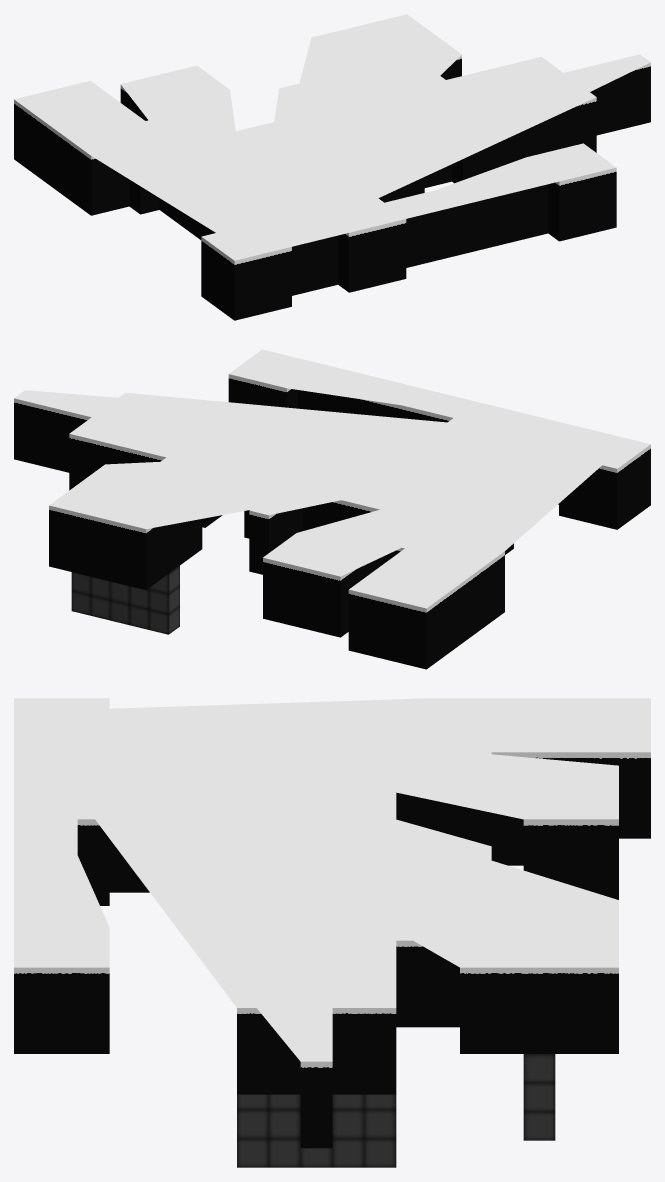
File: Tutorial.obj
3 renders of one model, top to bottom at view 1: azimuth 30°, elevation 25°; view 2: azimuth 150°, elevation 25°; view 3: azimuth 270°, elevation 25°, orthographic. The views are drawn at different scales.
Visible parts, largest first — view 1: polySurface1 pPlane1; view 2: polySurface1 pPlane1, pPlane1 polySurface3; view 3: polySurface1 pPlane1, pPlane1 polySurface3.
Boxes of the visible parts, <box> form: polySurface1 pPlane1: <box>14,14,650,320</box>; polySurface1 pPlane1: <box>14,349,650,669</box>; pPlane1 polySurface3: <box>71,566,179,634</box>; polySurface1 pPlane1: <box>14,698,650,1148</box>; pPlane1 polySurface3: <box>237,1054,555,1167</box>.
Size of the model in its own units: 27 by 6 by 20.
